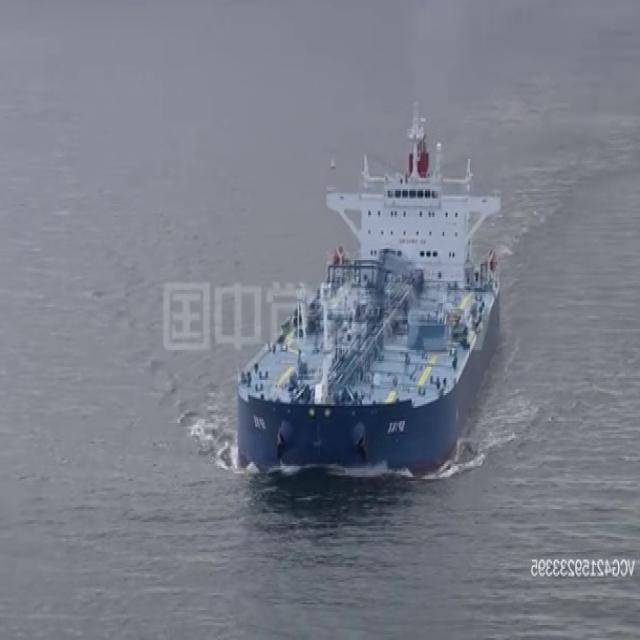cargoship: (230, 100, 505, 477)
